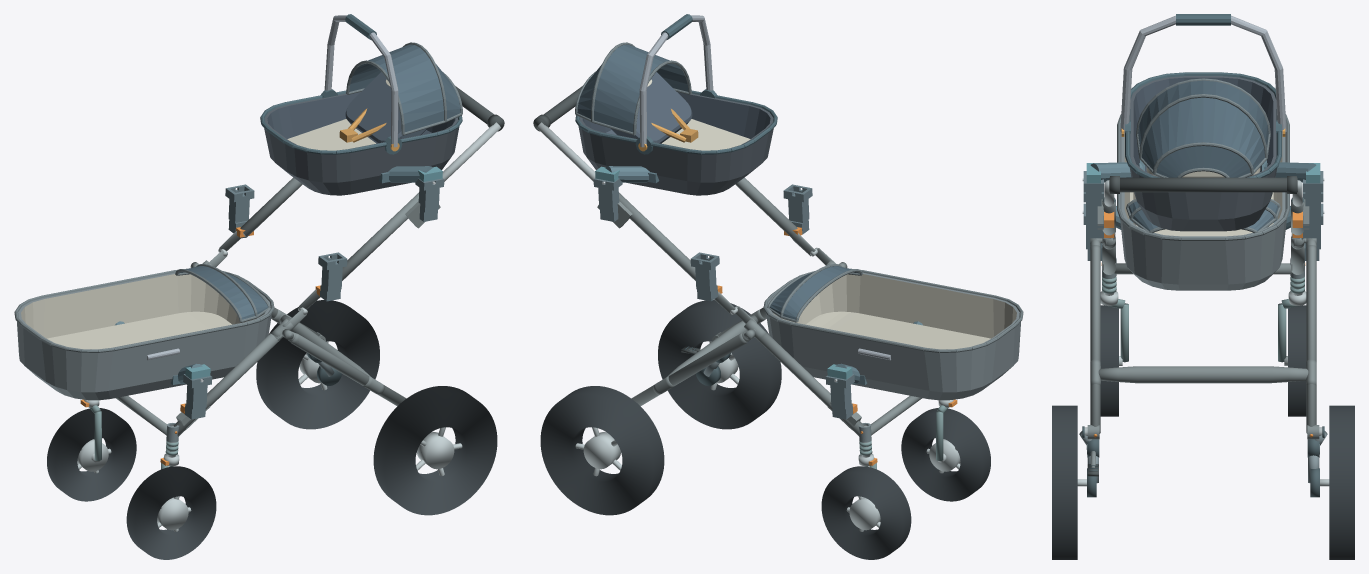
Rendered from D07_w550_state1_wheel_L.glb.
3 renders of one model, left to right at view 1: azimuth 30°, elevation 25°; view 2: azimuth 150°, elevation 25°; view 3: azimuth 270°, elevation 25°, orthographic. The views are drawn at different scales.
Parts seen in each view (by area): view 1: D07_Lower, D07_Upper, RL_tire.002, RR_tire.002, FL_tire.002, FR_tire.002, V46_rear_leg_-1.003, main_lower_-1.003, main_upper_-1.003, Universal_Cabin_Receiver_M_-1, RL_sealed_hub.002, Universal_Cabin_Receiver_M_1 (+8 smaller); view 2: D07_Lower, D07_Upper, RR_tire.002, RL_tire.002, FR_tire.002, FL_tire.002, V46_rear_leg_1.003, main_lower_1.003, main_upper_1.003, Universal_Cabin_Receiver_M_1, RR_sealed_hub.002, Universal_Cabin_Receiver_M_-1 (+8 smaller); view 3: D07_Upper, D07_Lower, RL_tire.002, RR_tire.002, V46_rearbar.003, round_handle.002, FL_tire.002, FR_tire.002, V46_rear_leg_1.003, V46_rear_leg_-1.003, D07_Upper_Mount_H, Universal_Cabin_Receiver_H_1 (+3 smaller).
Boxes of the visible parts, bbox=[...] form: D07_Lower: bbox=[14, 264, 274, 400]; D07_Upper: bbox=[260, 14, 462, 195]; RL_tire.002: bbox=[373, 386, 497, 515]; RR_tire.002: bbox=[256, 300, 379, 429]; FL_tire.002: bbox=[126, 466, 216, 559]; FR_tire.002: bbox=[47, 408, 136, 501]; V46_rear_leg_-1.003: bbox=[290, 333, 406, 406]; main_lower_-1.003: bbox=[173, 333, 282, 436]; main_upper_-1.003: bbox=[342, 192, 418, 280]; Universal_Cabin_Receiver_M_-1: bbox=[318, 252, 347, 301]; RL_sealed_hub.002: bbox=[417, 432, 454, 469]; Universal_Cabin_Receiver_M_1: bbox=[225, 184, 254, 233]; D07_Lower: bbox=[763, 264, 1023, 400]; D07_Upper: bbox=[575, 14, 777, 195]; RR_tire.002: bbox=[540, 386, 664, 515]; RL_tire.002: bbox=[658, 300, 781, 429]; FR_tire.002: bbox=[821, 466, 911, 559]; FL_tire.002: bbox=[901, 408, 990, 501]; V46_rear_leg_1.003: bbox=[631, 333, 747, 406]; main_lower_1.003: bbox=[755, 333, 864, 436]; main_upper_1.003: bbox=[619, 192, 695, 280]; Universal_Cabin_Receiver_M_1: bbox=[690, 252, 719, 301]; RR_sealed_hub.002: bbox=[583, 432, 620, 469]; Universal_Cabin_Receiver_M_-1: bbox=[783, 184, 812, 234]; D07_Upper: bbox=[1120, 14, 1286, 231]; D07_Lower: bbox=[1117, 114, 1289, 290]; RL_tire.002: bbox=[1052, 405, 1077, 559]; RR_tire.002: bbox=[1329, 405, 1354, 559]; V46_rearbar.003: bbox=[1098, 366, 1308, 383]; round_handle.002: bbox=[1109, 177, 1297, 192]; FL_tire.002: bbox=[1100, 305, 1118, 416]; FR_tire.002: bbox=[1288, 305, 1306, 416]; V46_rear_leg_1.003: bbox=[1306, 245, 1316, 433]; V46_rear_leg_-1.003: bbox=[1090, 245, 1100, 433]; D07_Upper_Mount_H: bbox=[1082, 160, 1324, 183]; Universal_Cabin_Receiver_H_1: bbox=[1303, 171, 1323, 228].
Bounding box in the file's own units: 1.38 × 1.36 × 0.7071.
